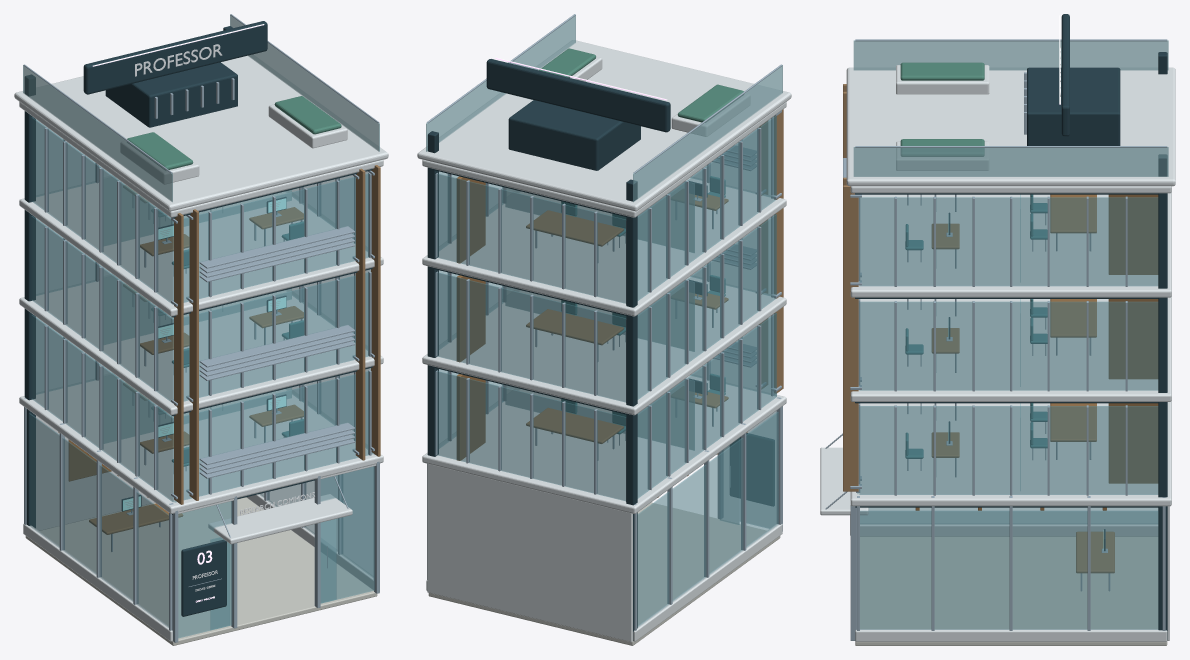
Rendered from professor-refined.glb.
3 views of the same model, side by side, from view 1: azimuth 30°, elevation 25°; view 2: azimuth 150°, elevation 25°; view 3: azimuth 270°, elevation 25° (orthographic). The views are drawn at different scales.
Parts seen in each view (by area): view 1: Glazing | low iron blue, Porcelain | satin ceramic, Aluminium | brushed edges, Structure | midnight anodised, Floor | warm limestone, Glazing | fritted upper panels, Bronze | research sunshade, Oak | reading furniture, Plant | eucalyptus, Upholstery | ocean textile, Lettering | porcelain, Light | instrument screen; view 2: Porcelain | satin ceramic, Glazing | low iron blue, Aluminium | brushed edges, Structure | midnight anodised, Glazing | fritted upper panels, Oak | reading furniture, Floor | warm limestone, Bronze | research sunshade, Plant | eucalyptus, Upholstery | ocean textile; view 3: Glazing | low iron blue, Porcelain | satin ceramic, Floor | warm limestone, Oak | reading furniture, Glazing | fritted upper panels, Structure | midnight anodised, Aluminium | brushed edges, Bronze | research sunshade, Plant | eucalyptus, Upholstery | ocean textile.
Boxes of the visible parts, bbox=[...] form: Glazing | low iron blue: bbox=[29, 117, 374, 637]; Porcelain | satin ceramic: bbox=[14, 54, 388, 641]; Aluminium | brushed edges: bbox=[23, 14, 379, 642]; Structure | midnight anodised: bbox=[24, 21, 372, 616]; Floor | warm limestone: bbox=[25, 497, 377, 645]; Glazing | fritted upper panels: bbox=[23, 15, 379, 443]; Bronze | research sunshade: bbox=[174, 165, 380, 504]; Oak | reading furniture: bbox=[58, 185, 303, 534]; Plant | eucalyptus: bbox=[127, 96, 341, 170]; Upholstery | ocean textile: bbox=[159, 210, 303, 466]; Lettering | porcelain: bbox=[125, 44, 314, 591]; Light | instrument screen: bbox=[123, 198, 286, 510]; Porcelain | satin ceramic: bbox=[417, 40, 791, 641]; Glazing | low iron blue: bbox=[437, 116, 778, 626]; Aluminium | brushed edges: bbox=[426, 14, 782, 630]; Structure | midnight anodised: bbox=[427, 59, 774, 641]; Glazing | fritted upper panels: bbox=[426, 15, 782, 450]; Oak | reading furniture: bbox=[456, 176, 747, 497]; Floor | warm limestone: bbox=[428, 502, 780, 645]; Bronze | research sunshade: bbox=[759, 109, 783, 393]; Plant | eucalyptus: bbox=[539, 48, 743, 122]; Upholstery | ocean textile: bbox=[561, 176, 725, 434]; Glazing | low iron blue: bbox=[857, 197, 1158, 629]; Porcelain | satin ceramic: bbox=[820, 65, 1175, 641]; Floor | warm limestone: bbox=[855, 536, 1167, 645]; Oak | reading furniture: bbox=[915, 194, 1158, 573]; Glazing | fritted upper panels: bbox=[853, 40, 1168, 490]; Structure | midnight anodised: bbox=[850, 14, 1167, 639]; Aluminium | brushed edges: bbox=[825, 39, 1167, 640]; Bronze | research sunshade: bbox=[843, 84, 858, 491]; Plant | eucalyptus: bbox=[900, 62, 984, 156]; Upholstery | ocean textile: bbox=[905, 194, 1047, 458].
Size of the model in its own units: 8.6 by 18.89 by 11.4.
